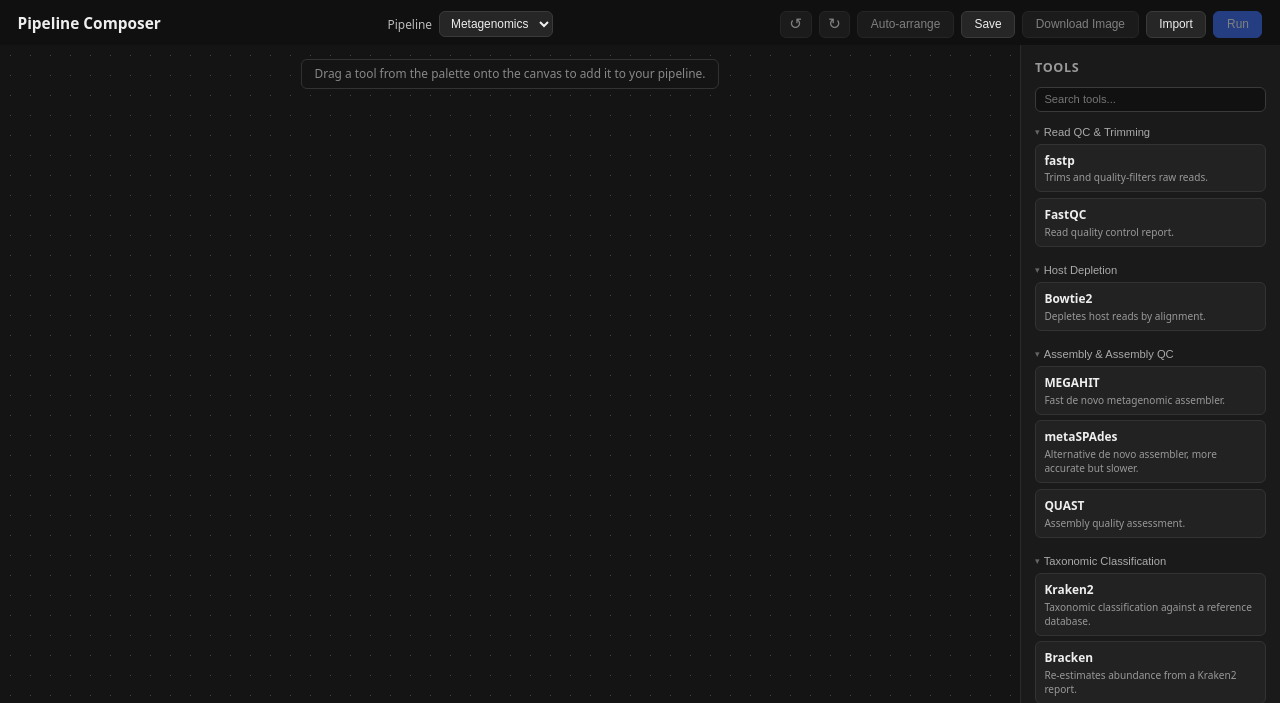
Test: ComposerPage › switching to the WGS family reveals WGS-only tools in the palette
Select "WGS / Isolate" in the dropdown labelled "Pipeline" at (496, 24), box [439,11,553,37]
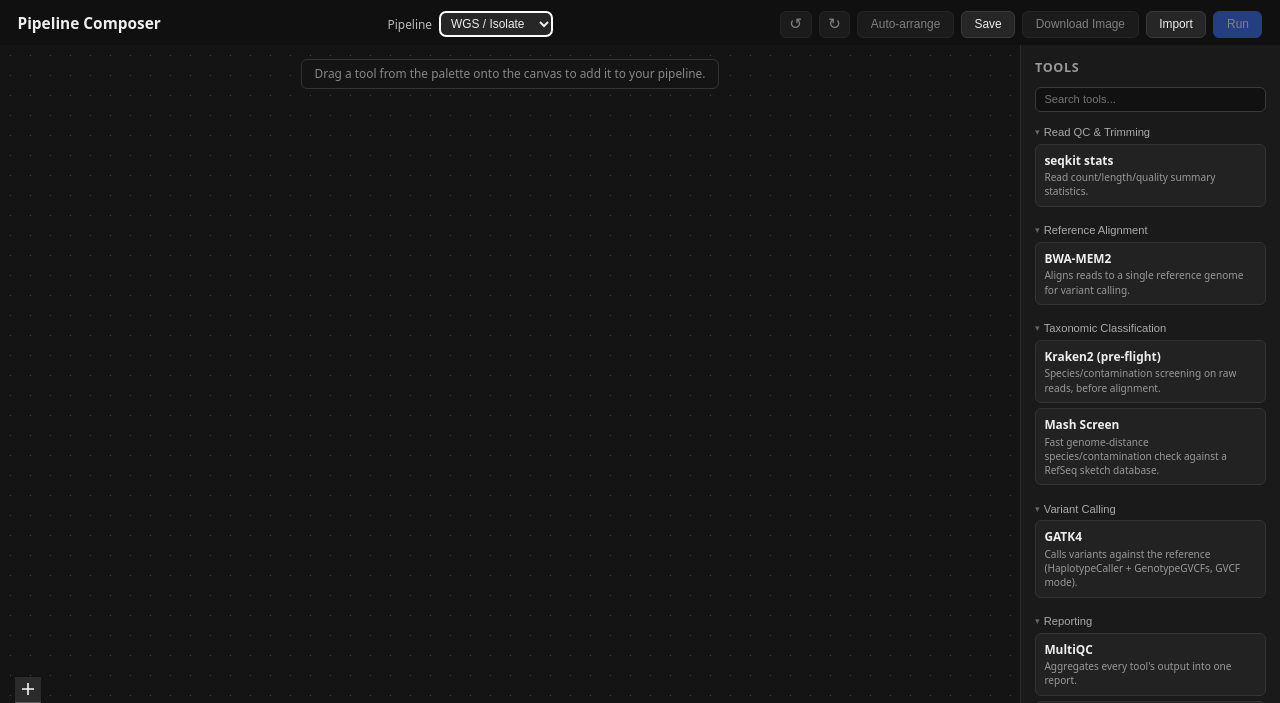
Expected: the text "BWA-MEM2" is shown, [1044,250,1111,266]
Expected: the button "fastp" is gone
